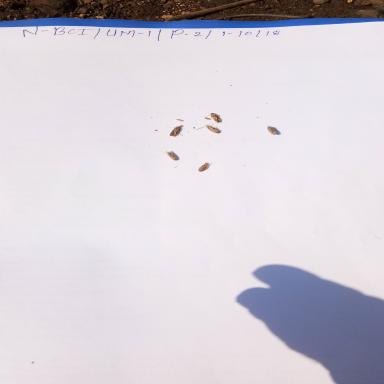pbw: (193, 123, 222, 134), (167, 124, 185, 138), (160, 149, 180, 161), (204, 112, 224, 124), (195, 161, 213, 174), (265, 125, 279, 136)
